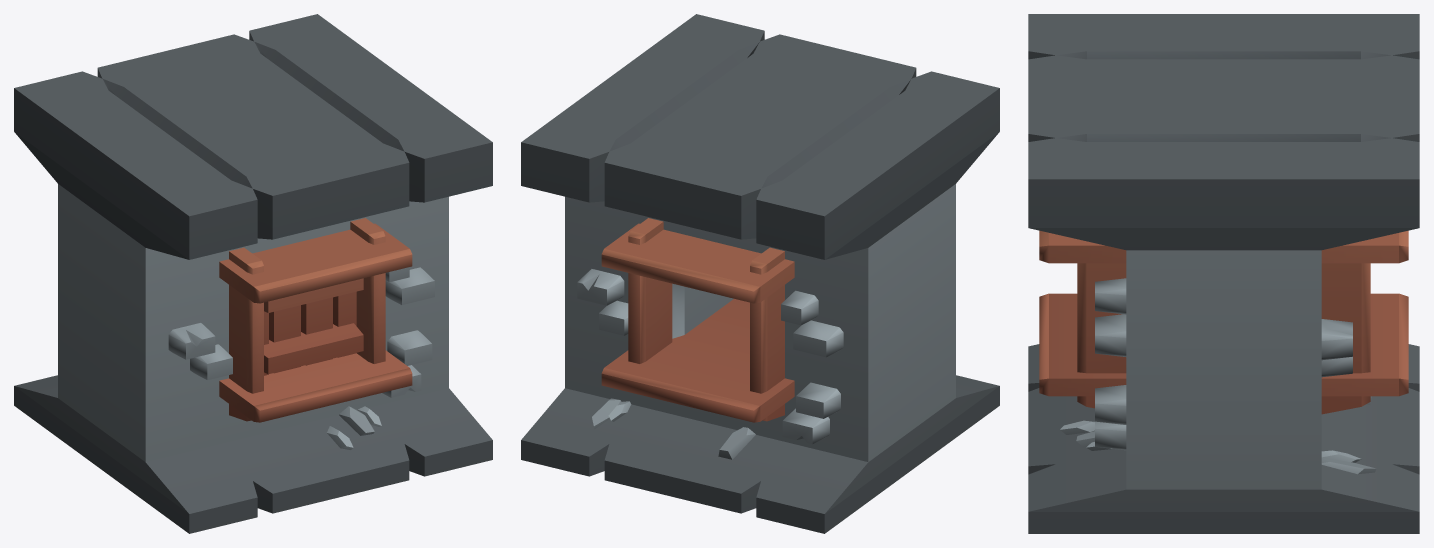
Rendered from wall_window.glb.
3 renders of one model, left to right at view 1: azimuth 30°, elevation 25°; view 2: azimuth 150°, elevation 25°; view 3: azimuth 270°, elevation 25°, orthographic. The views are drawn at different scales.
Visible parts, largest first — view 1: wall_window_closed; view 2: wall_window_closed; view 3: wall_window_closed.
Boxes of the visible parts, x1,y1,x2,y2 form: wall_window_closed: [14, 14, 492, 533]; wall_window_closed: [521, 14, 999, 533]; wall_window_closed: [1028, 14, 1419, 533].
Size of the model in its own units: 1 by 1 by 1.
Materials: 1 (1 with a texture image).
